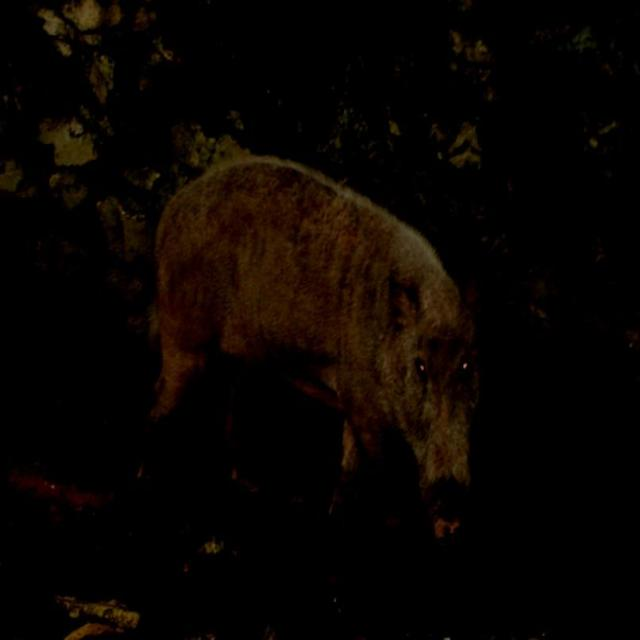pig: (151, 157, 478, 536)
